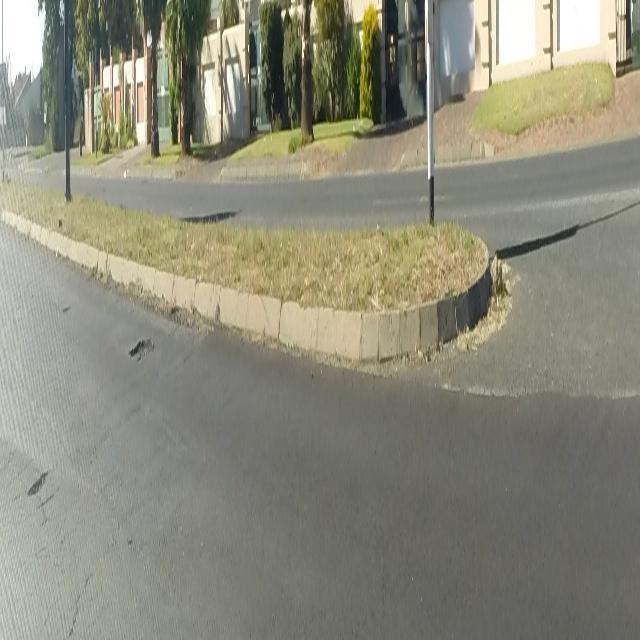pothole: (23, 465, 58, 503), (128, 334, 156, 364)
